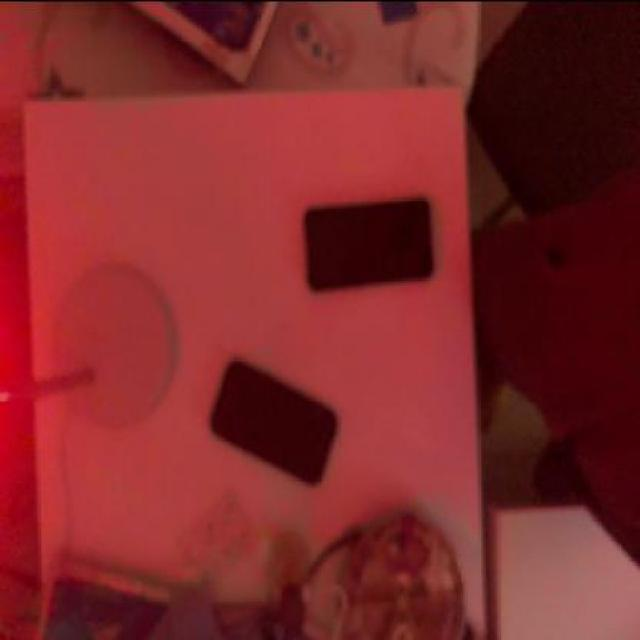phone: (213, 356, 339, 482), (301, 188, 433, 294)
